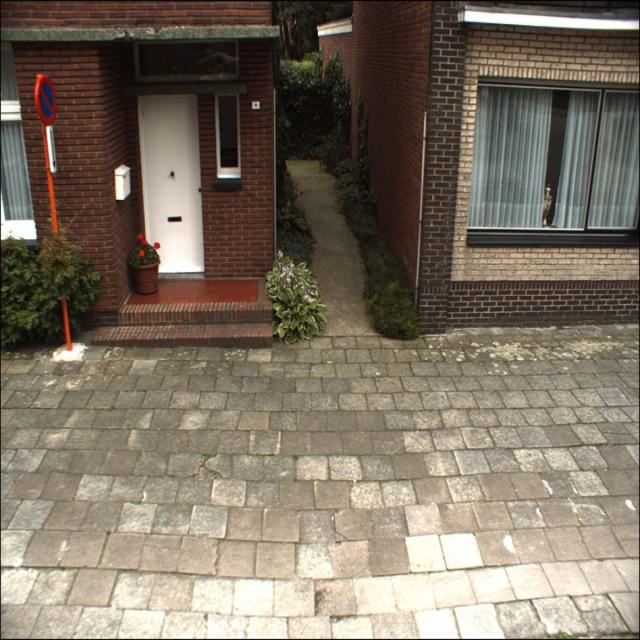parkyasak: (36, 73, 56, 123)
